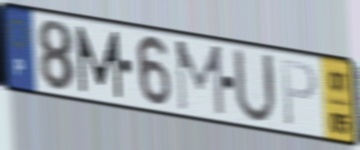6: (134, 32, 173, 110)
8: (36, 17, 79, 94)
M: (173, 38, 227, 119), (73, 23, 124, 101)
P: (279, 57, 319, 130)
U: (231, 45, 279, 127)
